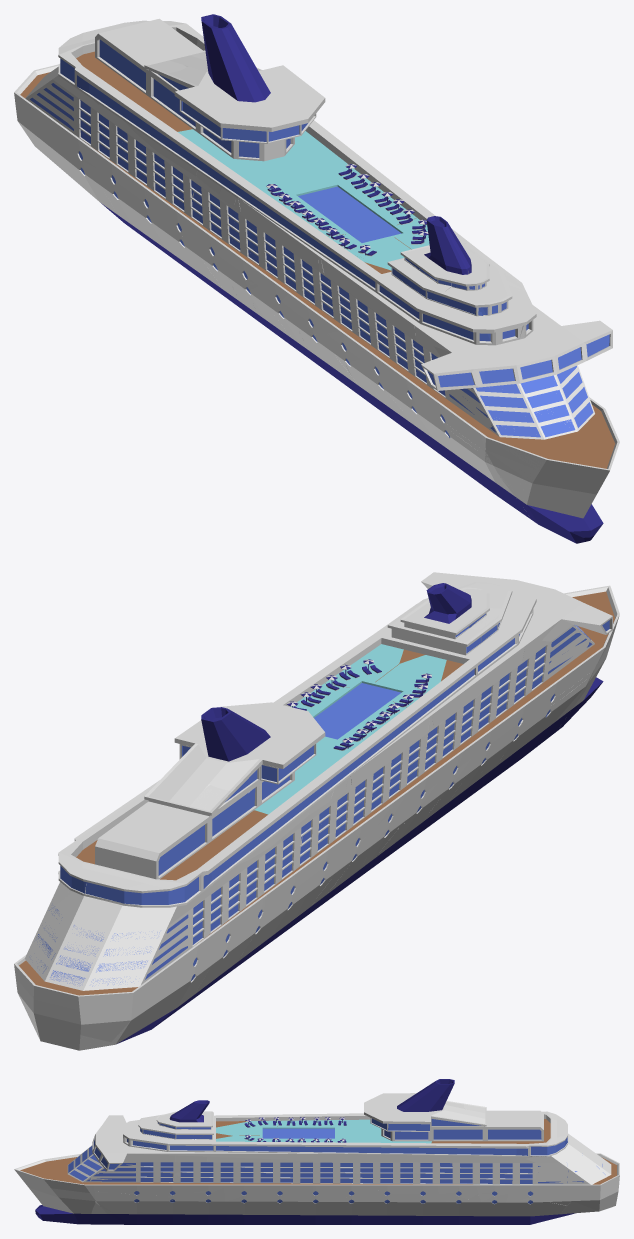
The model's file is cruise ship Fractured.fbx.
3 views of the same model, one above another, from view 1: azimuth 30°, elevation 25°; view 2: azimuth 150°, elevation 25°; view 3: azimuth 270°, elevation 25° (orthographic). The views are drawn at different scales.
Parts seen in each view (by area): view 1: MainCabins, Hull, Upper Deck and Front_cell.008, Rear, Upper Deck and Front, Hull_cell.031, MainCabins_cell.008, Upper Deck and Front_cell.018, Upper Deck and Front_cell.015, MainCabins_cell, Hull_cell.023, MainCabins_cell.005 (+23 smaller); view 2: Hull, MainCabins, Rear, Upper Deck and Front, MainCabins_cell.009, Upper Deck and Front_cell.008, Upper Deck and Front_cell.018, MainCabins_cell.008, Upper Deck and Front_cell.015, Hull_cell.022, MainCabins_cell, Upper Deck and Front_cell.007 (+26 smaller); view 3: Hull, MainCabins, Upper Deck and Front, Rear, Upper Deck and Front_cell.008, Hull_cell.031, Hull_cell.017, MainCabins_cell.017, MainCabins_cell.012, Upper Deck and Front_cell.007, MainCabins_cell.004, Hull_cell.002 (+35 smaller).
Part boxes in pixels (x1=…): MainCabins: x1=25, y1=75, x2=612, y2=439; Hull: x1=14, y1=64, x2=619, y2=541; Upper Deck and Front_cell.008: x1=158, y1=120, x2=425, y2=247; Rear: x1=95, y1=15, x2=325, y2=161; Upper Deck and Front: x1=58, y1=23, x2=536, y2=345; Hull_cell.031: x1=485, y1=431, x2=615, y2=543; MainCabins_cell.008: x1=321, y1=258, x2=418, y2=376; Upper Deck and Front_cell.018: x1=58, y1=23, x2=157, y2=142; Upper Deck and Front_cell.015: x1=307, y1=230, x2=425, y2=271; MainCabins_cell: x1=238, y1=198, x2=319, y2=302; Hull_cell.023: x1=413, y1=405, x2=532, y2=520; MainCabins_cell.005: x1=121, y1=120, x2=197, y2=208; Hull: x1=14, y1=585, x2=619, y2=1050; MainCabins: x1=25, y1=572, x2=612, y2=989; Rear: x1=95, y1=702, x2=324, y2=879; Upper Deck and Front: x1=58, y1=582, x2=536, y2=904; MainCabins_cell.009: x1=41, y1=898, x2=191, y2=990; Upper Deck and Front_cell.008: x1=254, y1=675, x2=418, y2=829; Upper Deck and Front_cell.018: x1=86, y1=815, x2=276, y2=907; MainCabins_cell.008: x1=432, y1=646, x2=524, y2=762; Upper Deck and Front_cell.015: x1=366, y1=620, x2=473, y2=721; Hull_cell.022: x1=43, y1=967, x2=166, y2=1042; MainCabins_cell: x1=350, y1=716, x2=429, y2=822; Upper Deck and Front_cell.007: x1=314, y1=618, x2=403, y2=691; Hull: x1=14, y1=1153, x2=619, y2=1224; MainCabins: x1=67, y1=1115, x2=606, y2=1184; Upper Deck and Front: x1=123, y1=1100, x2=567, y2=1157; Rear: x1=364, y1=1079, x2=543, y2=1141; Upper Deck and Front_cell.008: x1=272, y1=1113, x2=431, y2=1155; Hull_cell.031: x1=14, y1=1169, x2=95, y2=1224; Hull_cell.017: x1=224, y1=1185, x2=312, y2=1224; MainCabins_cell.017: x1=207, y1=1156, x2=312, y2=1183; MainCabins_cell.012: x1=90, y1=1153, x2=175, y2=1182; Upper Deck and Front_cell.007: x1=188, y1=1131, x2=276, y2=1152; MainCabins_cell.004: x1=508, y1=1150, x2=568, y2=1184; Hull_cell.002: x1=120, y1=1201, x2=227, y2=1224.
Size of the model in its own units: 84.6 by 115 by 453.
